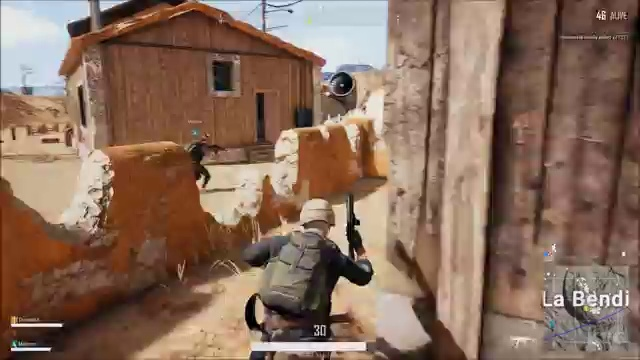Player: (234, 189, 387, 318), (173, 123, 232, 189)
